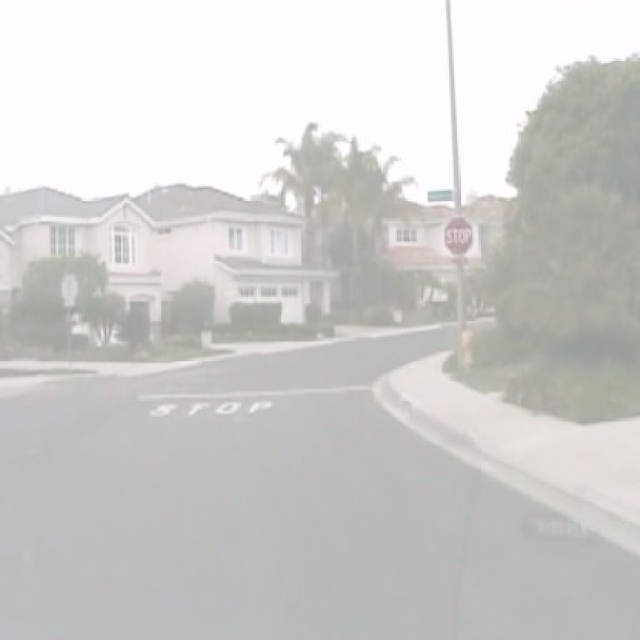stop: (443, 215, 474, 257)
